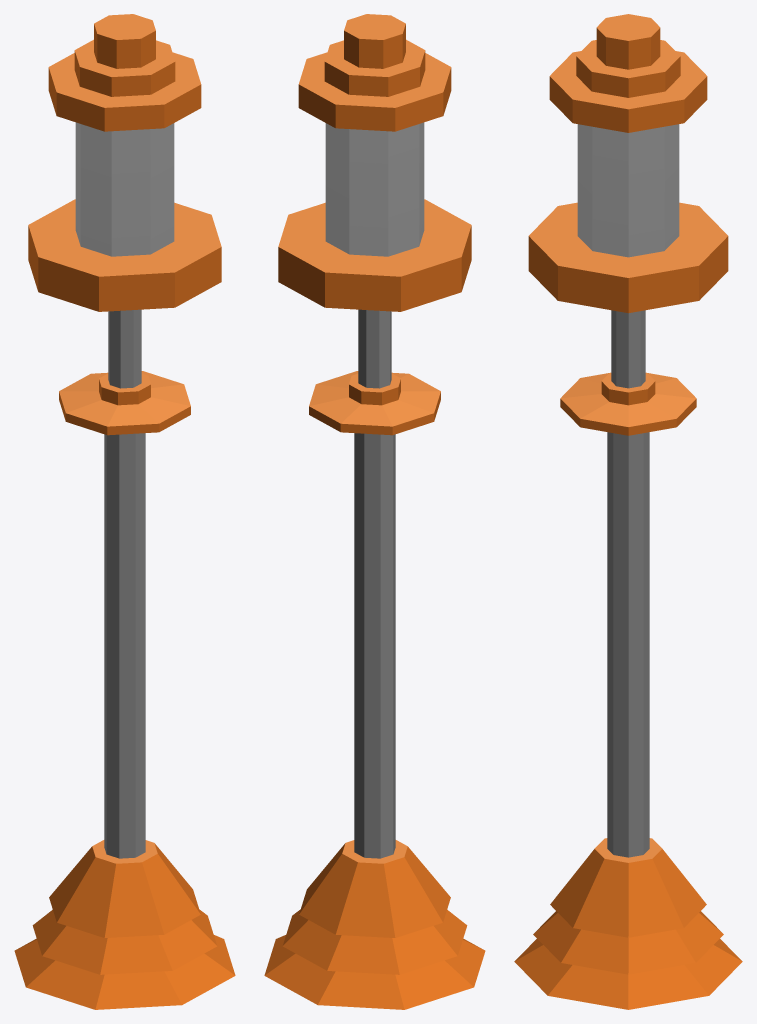
Rendered from LampPostSciFi_01.glb.
The picture shows the model from 3 angles, left to right: view 1: azimuth 30°, elevation 25°; view 2: azimuth 150°, elevation 25°; view 3: azimuth 270°, elevation 25°; orthographic projection.
Visible parts, largest first — view 1: LampPostSciFi_01; view 2: LampPostSciFi_01; view 3: LampPostSciFi_01.
Boxes of the visible parts, x1,y1,x2,y2 form: LampPostSciFi_01: [14, 14, 235, 1009]; LampPostSciFi_01: [264, 14, 485, 1009]; LampPostSciFi_01: [514, 14, 742, 1009].
Size of what is drawn, in the model's own units: 0.5821 by 2.63 by 0.5821.
Materials: 2 (2 with a texture image).
